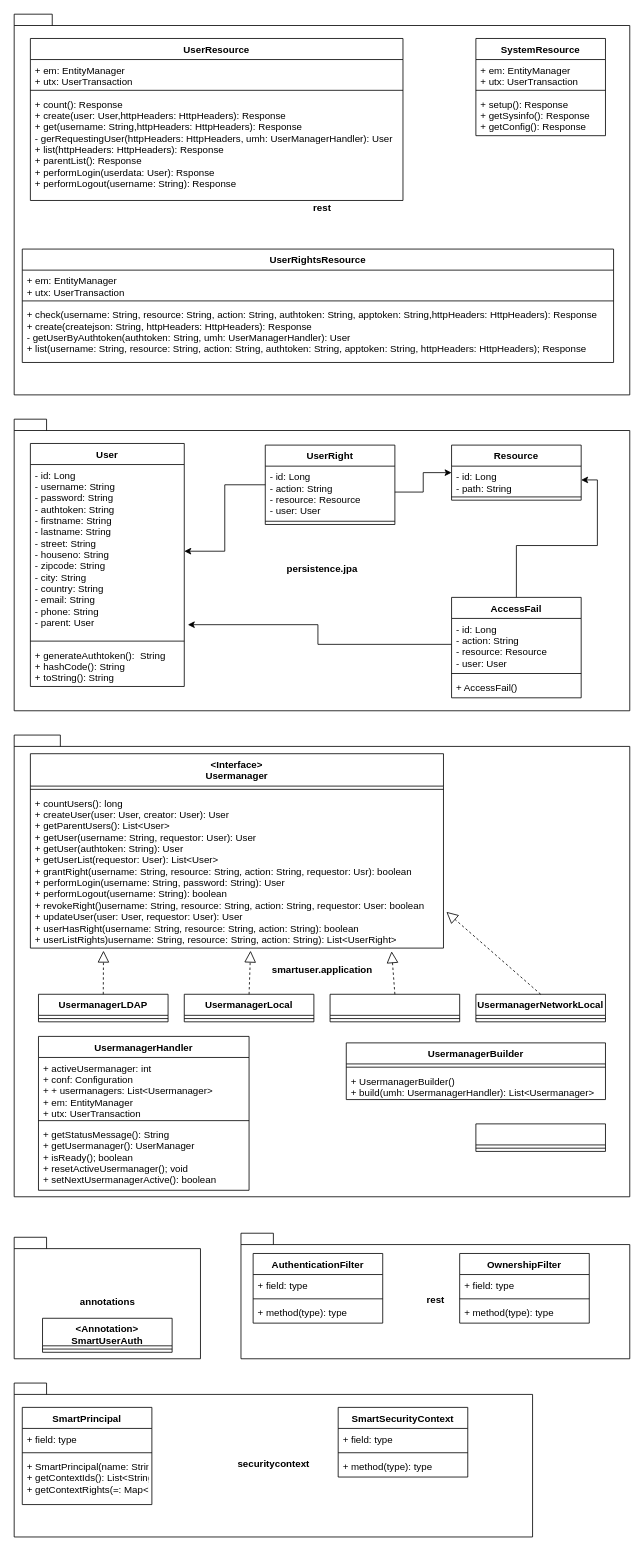
The diagram is 644 pixels wide and 1551 high, and some of its shapes have lost their labels. The centre of each missing label's shape, as x and y in pixels:
UsermanagerException: the point at 540,1137
UsermanagerNetwork: the point at 394,1007
